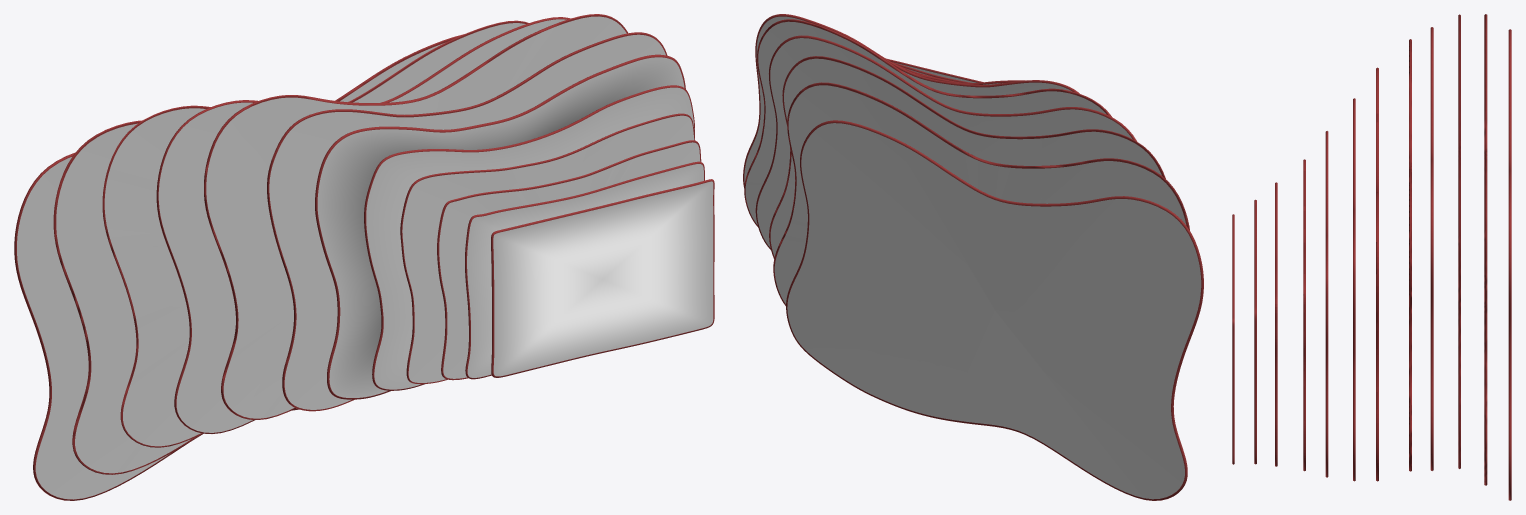
File: Frame1.glb
3 views of the same model, side by side, from view 1: azimuth 30°, elevation 25°; view 2: azimuth 150°, elevation 25°; view 3: azimuth 270°, elevation 25° (orthographic). The views are drawn at different scales.
Parts seen in each view (by area): view 1: pasted__pasted__pasted__pasted__Outline12; view 2: pasted__pasted__pasted__pasted__Outline12; view 3: pasted__pasted__pasted__pasted__Outline12.
Part boxes in pixels (<box>): pasted__pasted__pasted__pasted__Outline12: <box>14,14,714,500</box>; pasted__pasted__pasted__pasted__Outline12: <box>743,14,1203,500</box>; pasted__pasted__pasted__pasted__Outline12: <box>1232,14,1511,500</box>.
Bounding box in the file's own units: 0.6281 × 0.4082 × 0.2537.
